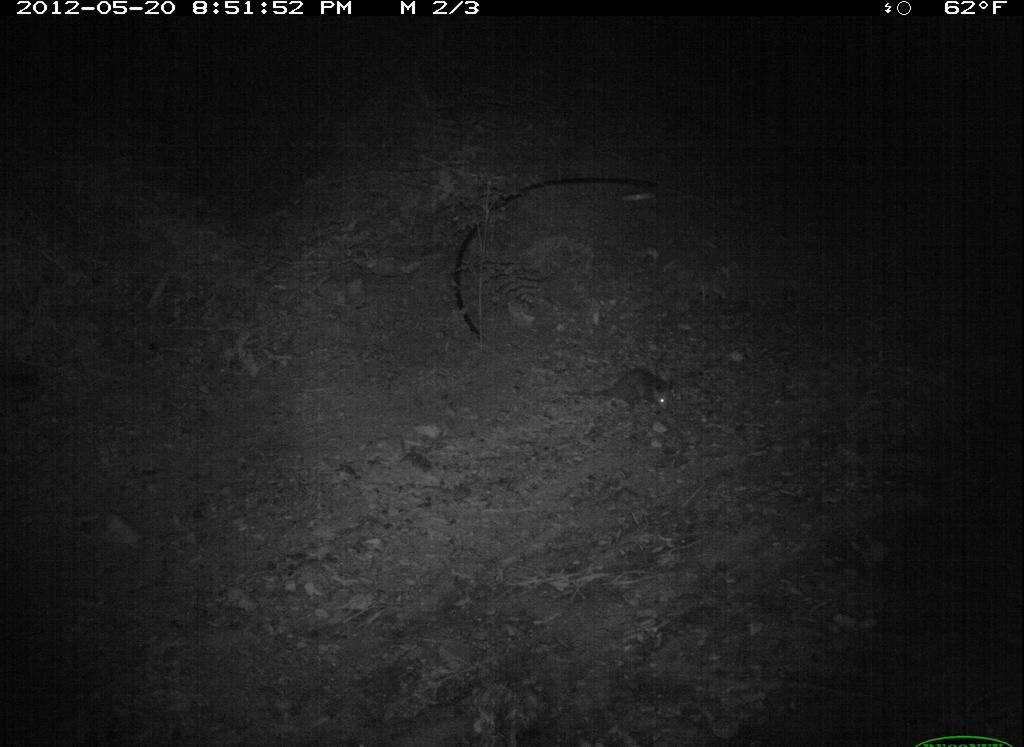opossum: (587, 335, 721, 459)
